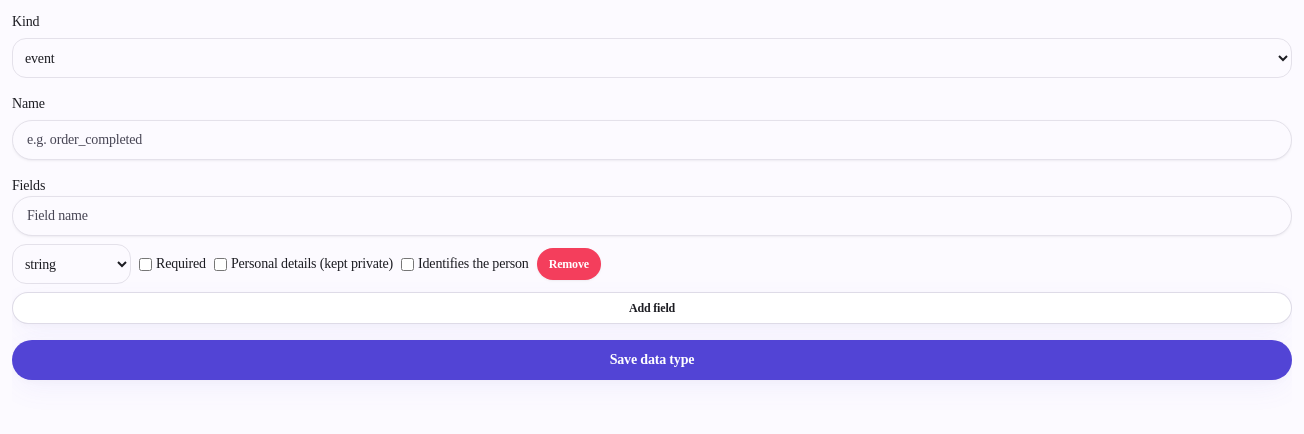
Scenario: RegisterSchemaDefForm › explains that nothing was saved when GrowthOS cannot be reached
Type "order_completed" into the field labelled "Name".
click(652, 140); type("order_completed")  # box [12, 120, 1292, 160]
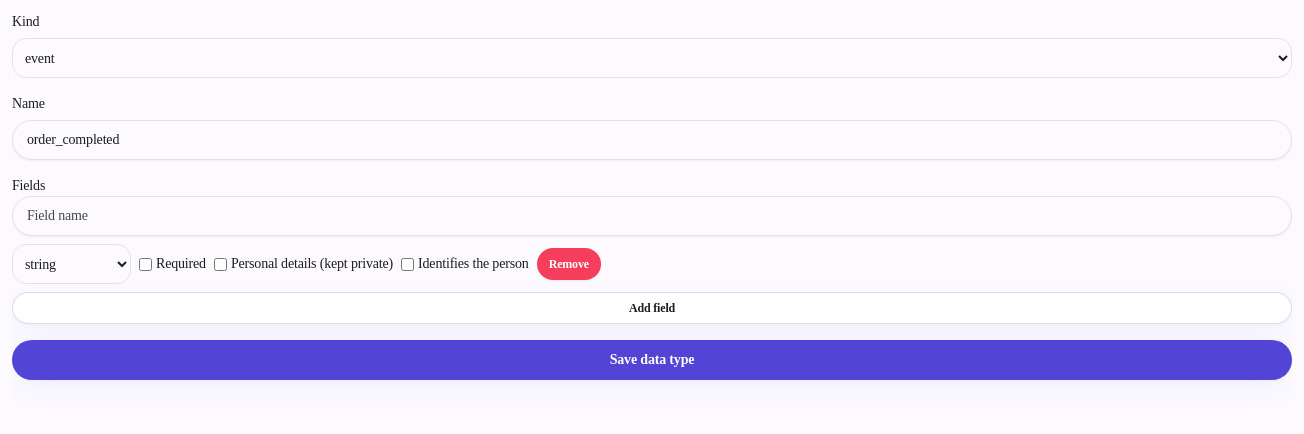
Type "order_id" into the field labelled "Field name".
click(652, 216); type("order_id")  # box [12, 196, 1292, 236]
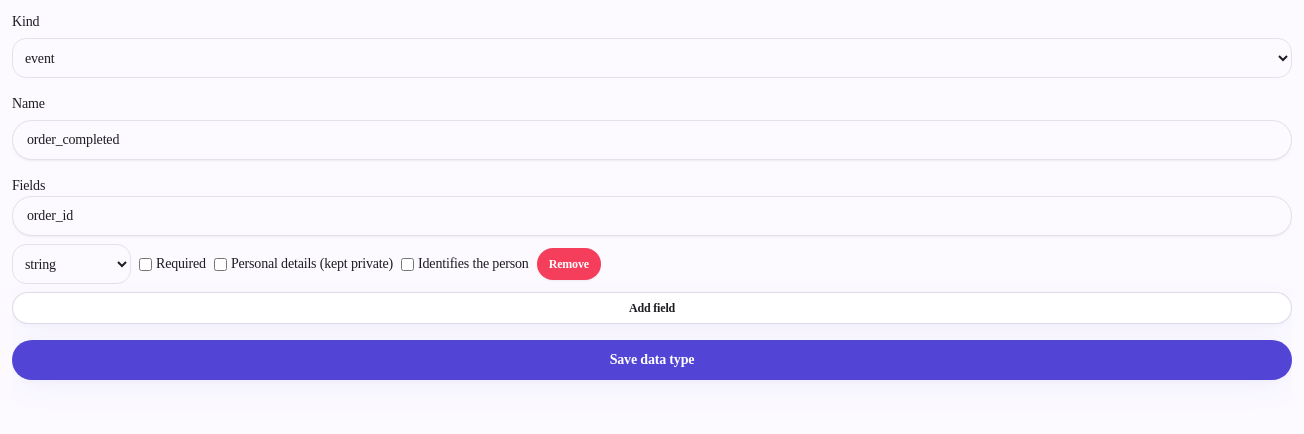
Click the button "Save data type".
click(652, 360)  # box [12, 340, 1292, 380]
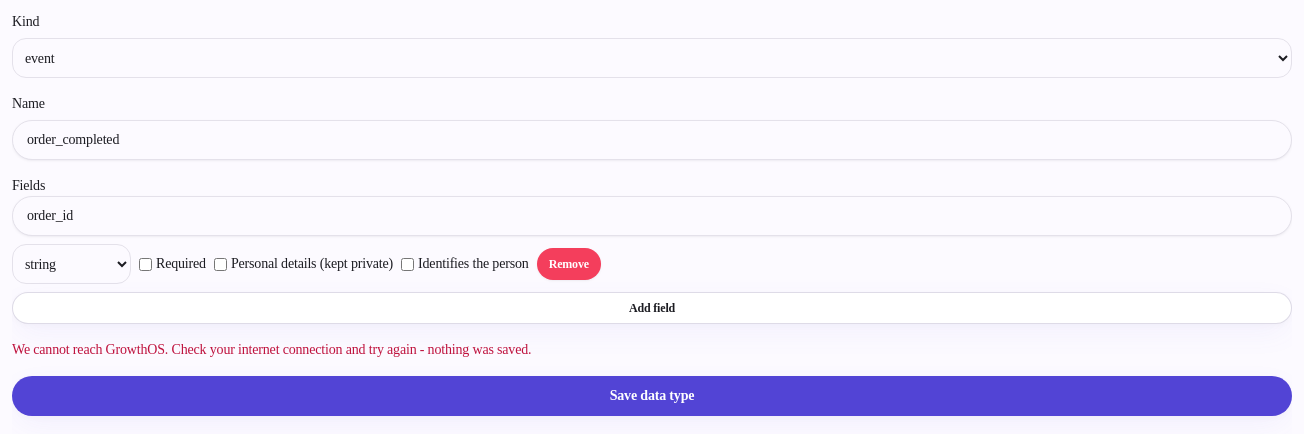
Expected: the button "Save data type" is enabled, [12, 376, 1292, 416]
Expected: the message shows "We cannot reach GrowthOS", [12, 342, 531, 357]
